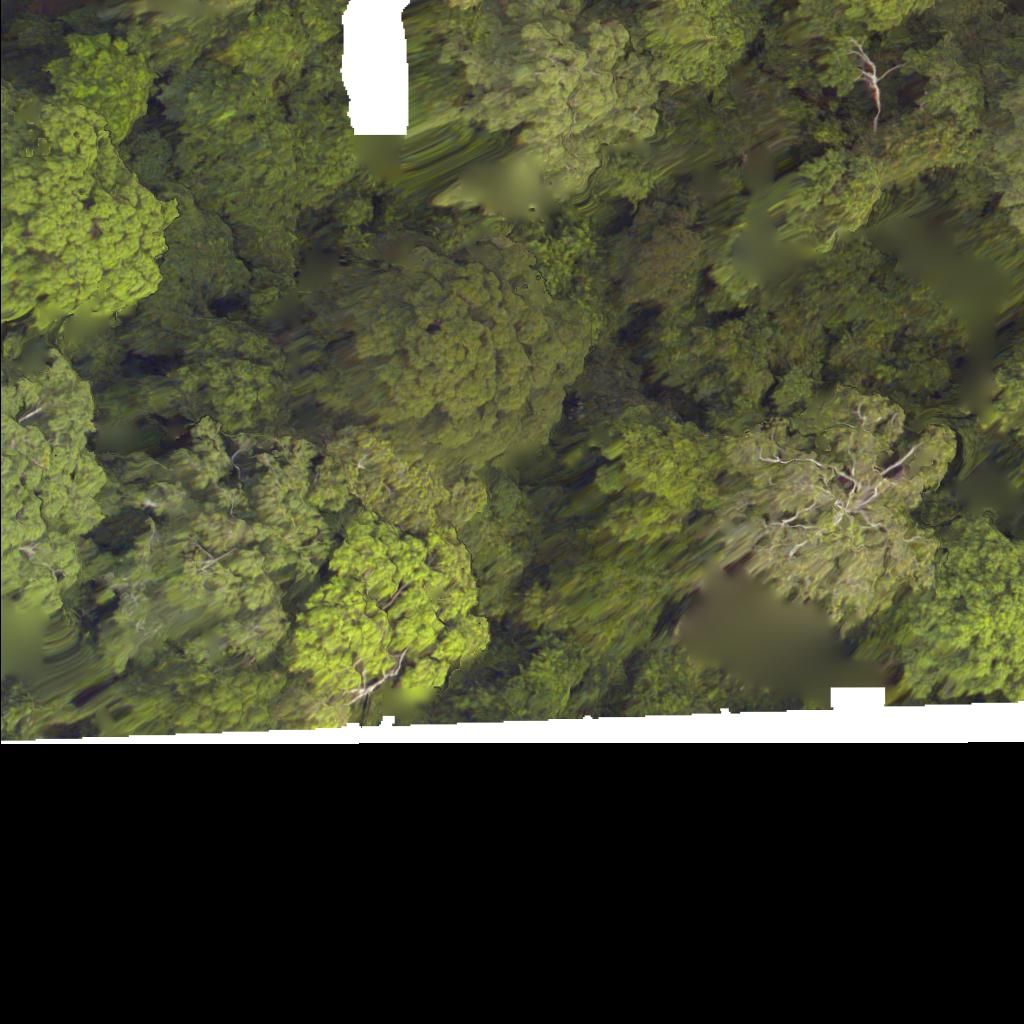crown: (306, 212, 626, 499), (114, 415, 337, 676), (708, 407, 957, 637), (0, 102, 174, 331), (296, 511, 487, 705), (0, 343, 119, 645), (902, 534, 1023, 701), (593, 414, 721, 557), (47, 31, 153, 138), (972, 74, 1023, 210), (962, 350, 1023, 447), (0, 70, 30, 120), (196, 0, 261, 19)
